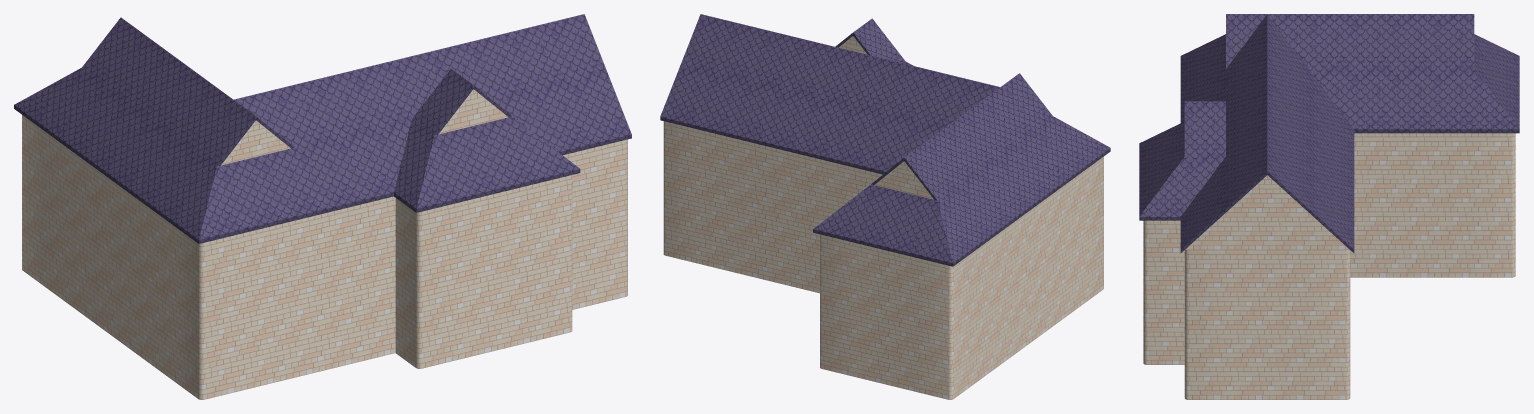
The model's file is Building_Giyeok_Full.fbx.
The picture shows the model from 3 angles, left to right: view 1: azimuth 30°, elevation 25°; view 2: azimuth 150°, elevation 25°; view 3: azimuth 270°, elevation 25°; orthographic projection. The views are drawn at different scales.
Parts seen in each view (by area): view 1: Building_Giyeok; view 2: Building_Giyeok; view 3: Building_Giyeok.
Part boxes in pixels (<box>): Building_Giyeok: <box>14,14,631,399</box>; Building_Giyeok: <box>660,14,1110,399</box>; Building_Giyeok: <box>1139,14,1519,399</box>.
Size of the model in its own units: 2220 by 1220 by 1840.
